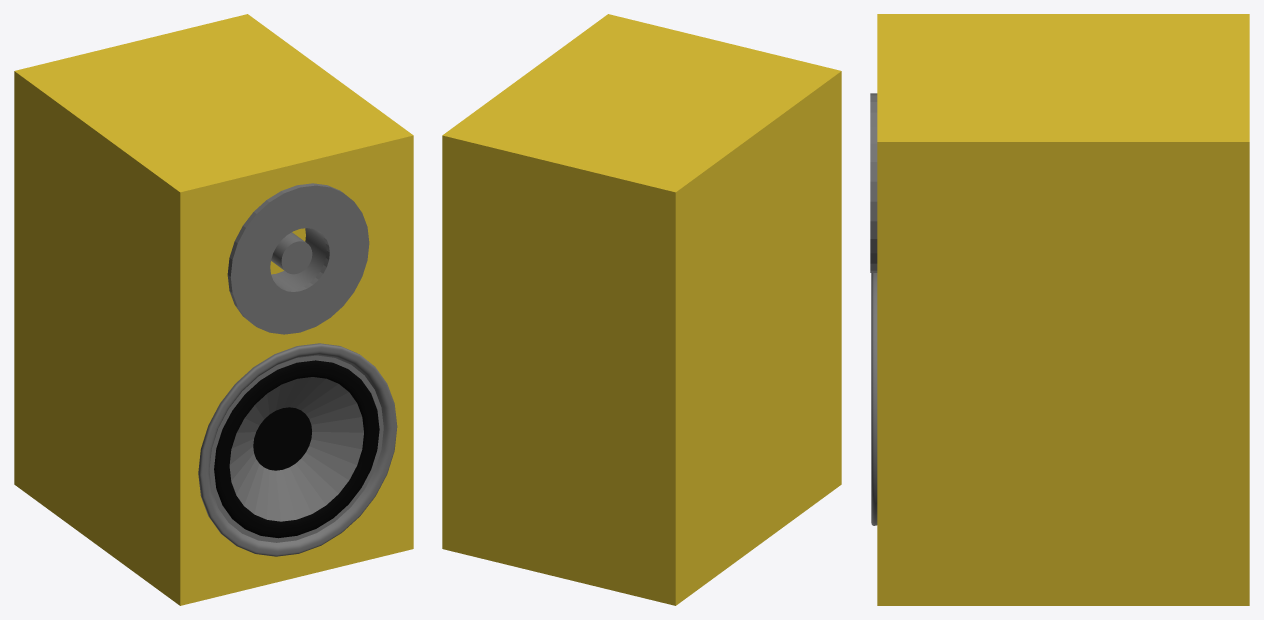
Rendered from 스피커_노2.FBX.
3 renders of one model, left to right at view 1: azimuth 30°, elevation 25°; view 2: azimuth 150°, elevation 25°; view 3: azimuth 270°, elevation 25°, orthographic. The views are drawn at different scales.
Visible parts, largest first — view 1: Box012, Circle035, Circle036; view 2: Box012; view 3: Box012, Circle035, Circle036.
Part boxes in pixels (bbox=[...]): Box012: bbox=[14, 14, 413, 605]; Circle035: bbox=[198, 343, 397, 556]; Circle036: bbox=[227, 183, 369, 334]; Box012: bbox=[442, 14, 841, 605]; Box012: bbox=[877, 14, 1249, 605]; Circle035: bbox=[871, 273, 877, 525]; Circle036: bbox=[870, 93, 877, 272].
Bounding box in the file's own units: 179 × 304 × 225.
